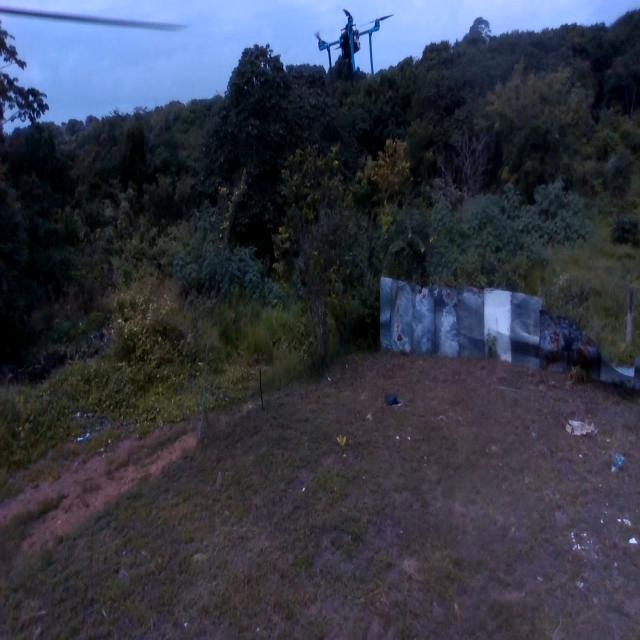-uav-: (308, 0, 394, 97)
